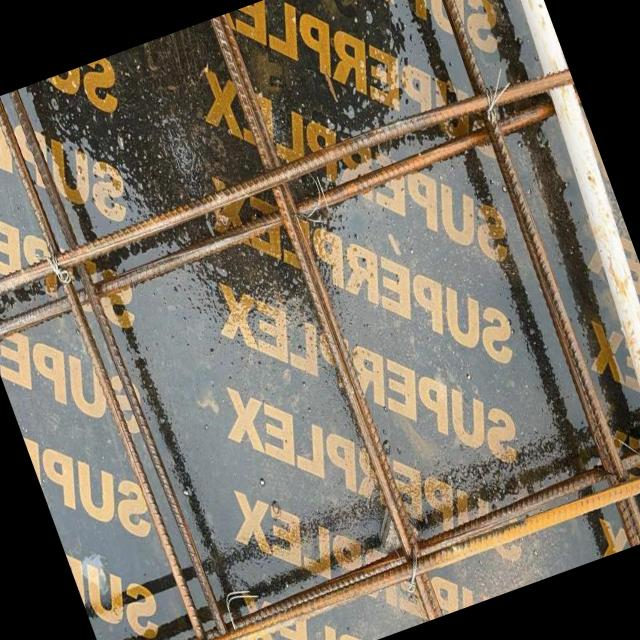ribbed bar: (0, 88, 590, 346), (0, 59, 576, 308), (208, 15, 444, 622), (8, 85, 251, 640), (0, 93, 229, 640), (413, 0, 640, 547), (96, 420, 640, 640), (108, 451, 640, 640)
